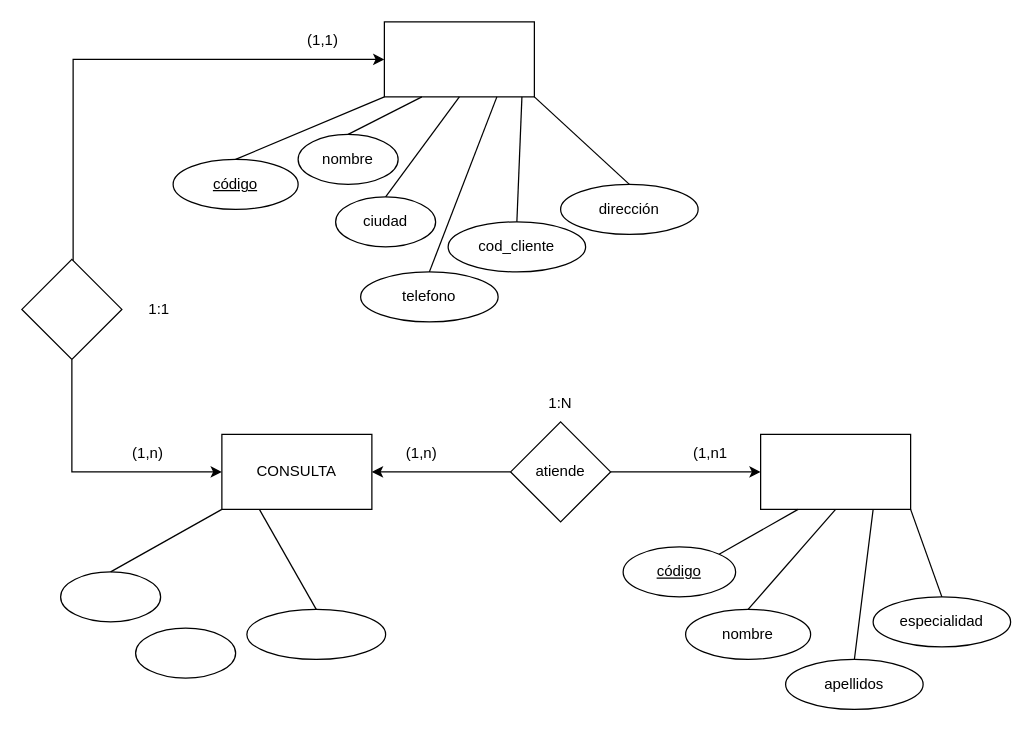
This 1033x731 diagram has some shape labels left out. The box of each missing label's shape, as (x1, y1, x2, y2) in pixels:
código_consulta: (246, 608, 386, 659)
dictamen_vet: (59, 571, 161, 622)
nº_visitas: (134, 627, 236, 678)
PACIENTE: (383, 21, 534, 97)
realiza: (21, 258, 122, 359)
VETERINARIO: (759, 433, 911, 509)
